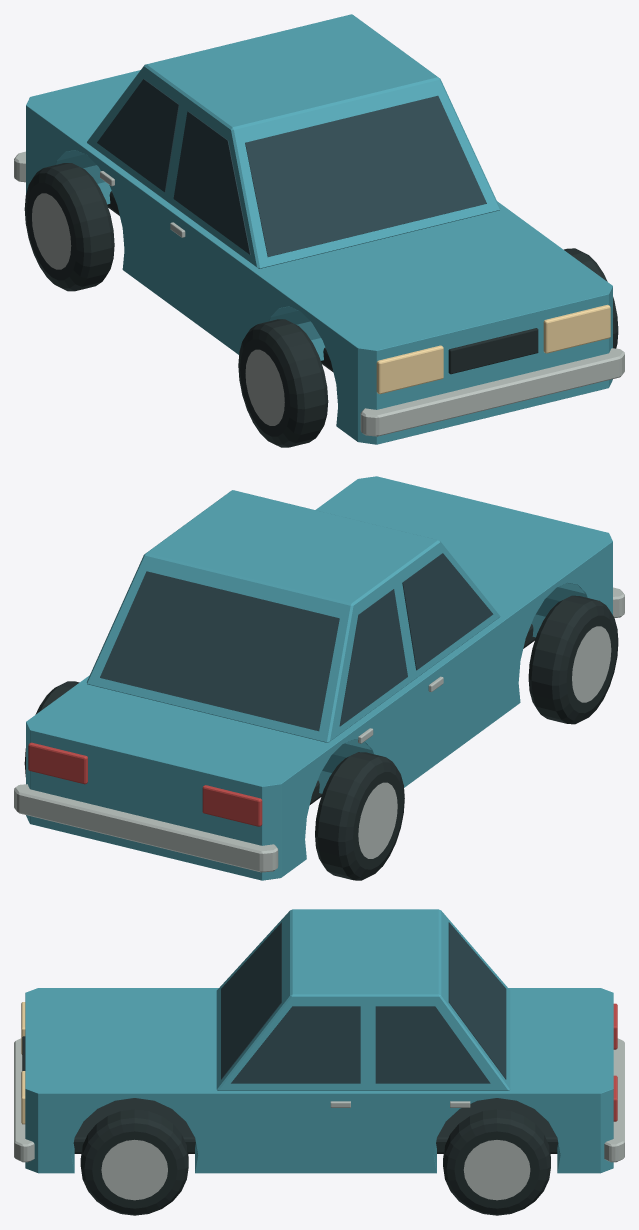
File: asset.glb
3 views of the same model, one above another, from view 1: azimuth 30°, elevation 25°; view 2: azimuth 150°, elevation 25°; view 3: azimuth 270°, elevation 25° (orthographic). The views are drawn at different scales.
Visible parts, largest first — view 1: Body_ArchCutShell, Cabin_PaintedPillars_Roof, Glass_Windshield, wheel_rl, wheel_fl, Bumper_Front, Glass_FrontDoor_L, Glass_RearDoor_L, Grille_Recess, Headlight_L, Headlight_R, wheel_fr; view 2: Body_ArchCutShell, Cabin_PaintedPillars_Roof, Glass_RearWindow, wheel_rl, wheel_fl, Bumper_Rear, Glass_FrontDoor_L, Glass_RearDoor_L, Taillight_L, Taillight_R; view 3: Body_ArchCutShell, Cabin_PaintedPillars_Roof, wheel_fr, wheel_rr, Glass_FrontDoor_R, Glass_RearDoor_R, Glass_Windshield, Glass_RearWindow, Underbody_Recessed, Bumper_Rear, Bumper_Front.
Part boxes in pixels (x1,y1,x2,y2): Body_ArchCutShell: [26, 70, 612, 444]; Cabin_PaintedPillars_Roof: [87, 14, 500, 268]; Glass_Windshield: [245, 95, 486, 256]; wheel_rl: [24, 163, 114, 291]; wheel_fl: [238, 319, 328, 447]; Bumper_Front: [360, 348, 624, 436]; Glass_FrontDoor_L: [173, 111, 250, 254]; Glass_RearDoor_L: [97, 79, 179, 192]; Grille_Recess: [448, 328, 538, 374]; Headlight_L: [376, 345, 443, 394]; Headlight_R: [543, 304, 610, 353]; wheel_fr: [564, 248, 618, 348]; Body_ArchCutShell: [26, 476, 612, 880]; Cabin_PaintedPillars_Roof: [86, 490, 499, 742]; Glass_RearWindow: [100, 571, 339, 731]; wheel_rl: [315, 752, 404, 880]; wheel_fl: [528, 595, 618, 724]; Bumper_Rear: [14, 784, 278, 872]; Glass_FrontDoor_L: [402, 553, 493, 670]; Glass_RearDoor_L: [339, 589, 407, 726]; Taillight_L: [202, 785, 262, 826]; Taillight_R: [28, 742, 87, 784]; Body_ArchCutShell: [25, 988, 613, 1173]; Cabin_PaintedPillars_Roof: [216, 909, 510, 1090]; wheel_fr: [80, 1109, 188, 1215]; wheel_rr: [443, 1109, 550, 1215]; Glass_FrontDoor_R: [231, 1006, 360, 1083]; Glass_RearDoor_R: [375, 1006, 490, 1083]; Glass_Windshield: [221, 922, 281, 1079]; Glass_RearWindow: [448, 922, 506, 1079]; Underbody_Recessed: [73, 1098, 558, 1153]; Bumper_Rear: [604, 1038, 624, 1162]; Bumper_Front: [14, 1038, 34, 1162].
Bounding box in the file's own units: 2.25 × 1.55 × 4.3.
